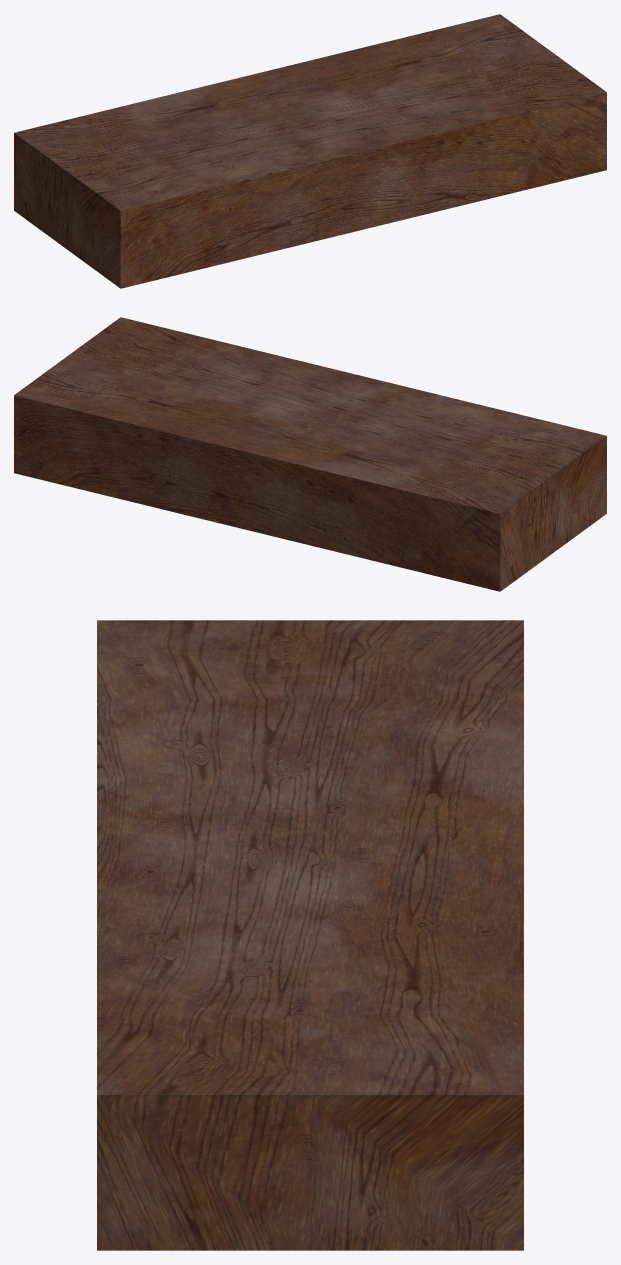
File: table.fbx
3 views of the same model, one above another, from view 1: azimuth 30°, elevation 25°; view 2: azimuth 150°, elevation 25°; view 3: azimuth 270°, elevation 25° (orthographic). The views are drawn at different scales.
Parts seen in each view (by area): view 1: table; view 2: table; view 3: table.
Boxes of the visible parts, bbox=[...] form: table: bbox=[14, 14, 606, 288]; table: bbox=[14, 317, 606, 591]; table: bbox=[97, 620, 523, 1250].
Bounding box in the file's own units: 1307 × 200 × 497.
Materials: 1 (1 with a texture image).
